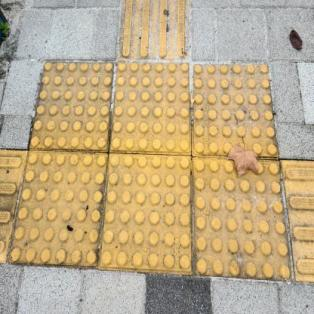Podoctatil: (0, 0, 313, 291)
